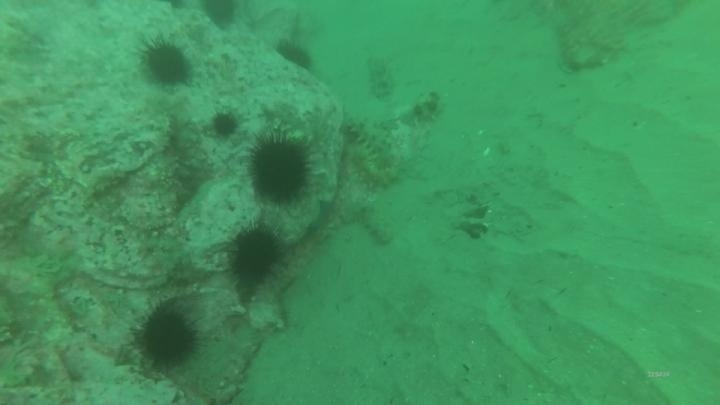echinus: (245, 131, 316, 207), (131, 300, 203, 372), (223, 219, 288, 289), (138, 37, 195, 89), (274, 37, 317, 74), (199, 1, 241, 31), (208, 108, 242, 140)
holothurian: (348, 114, 401, 175), (350, 145, 402, 191), (364, 53, 398, 103)
